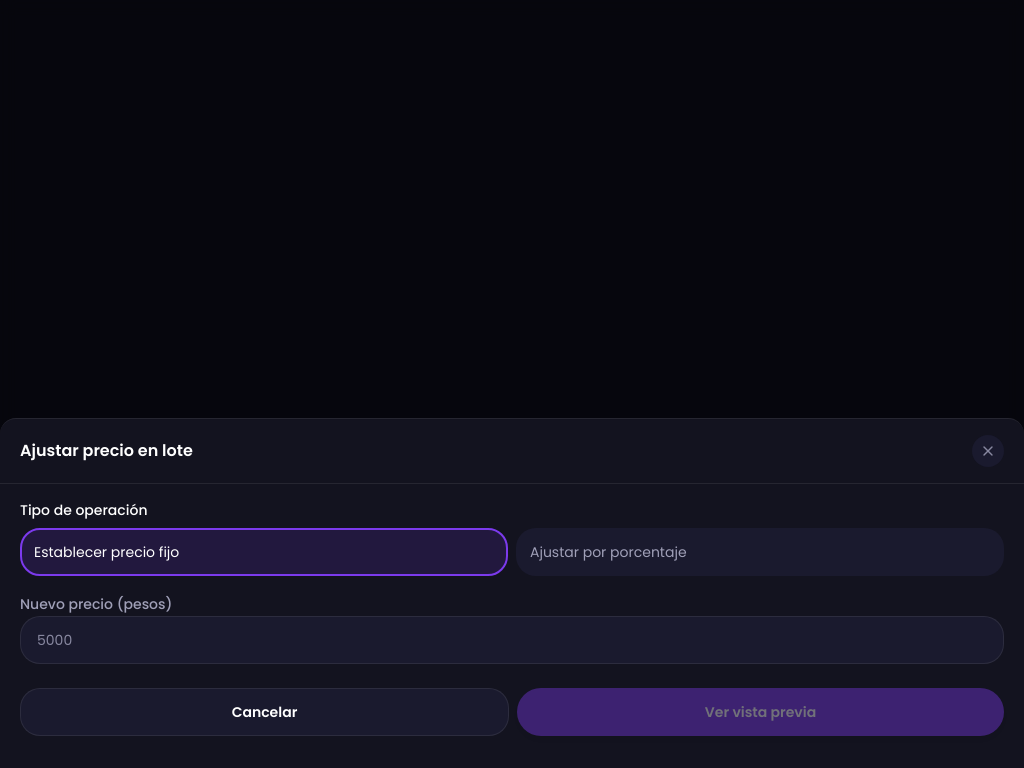
Test: BulkPriceDialog › con resultado válido el botón Confirmar está habilitado
In the number field: (512, 640) [20, 616, 1004, 664], type "6000"
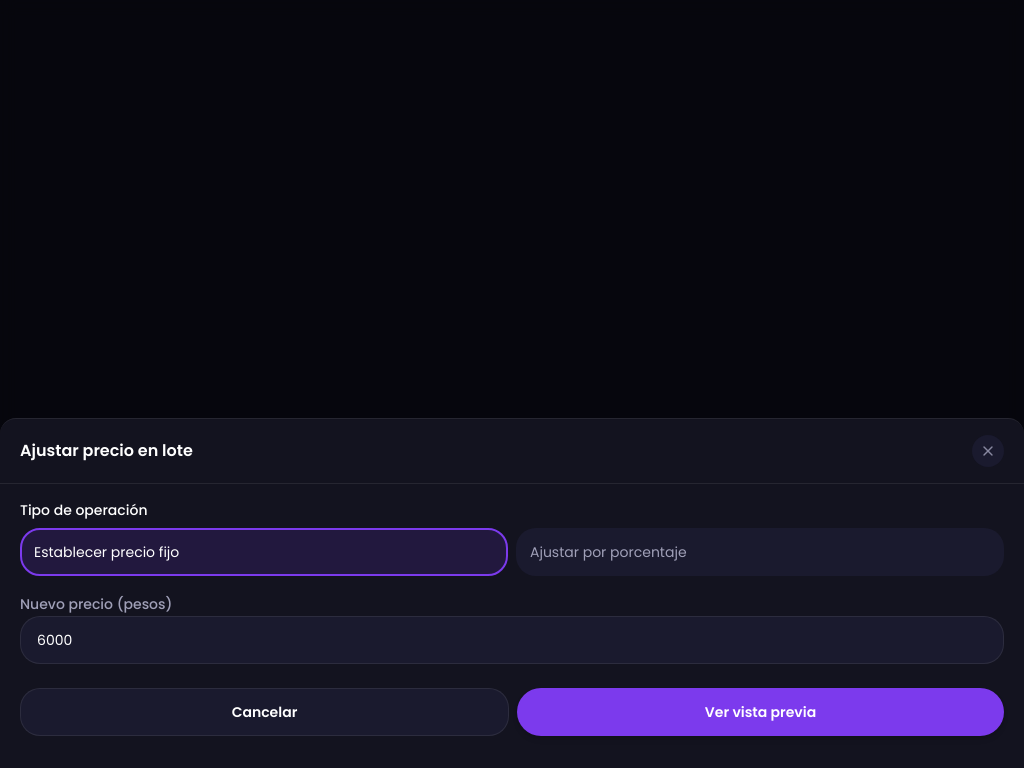
Click the button "Ver vista previa": (760, 712) [517, 688, 1004, 736]
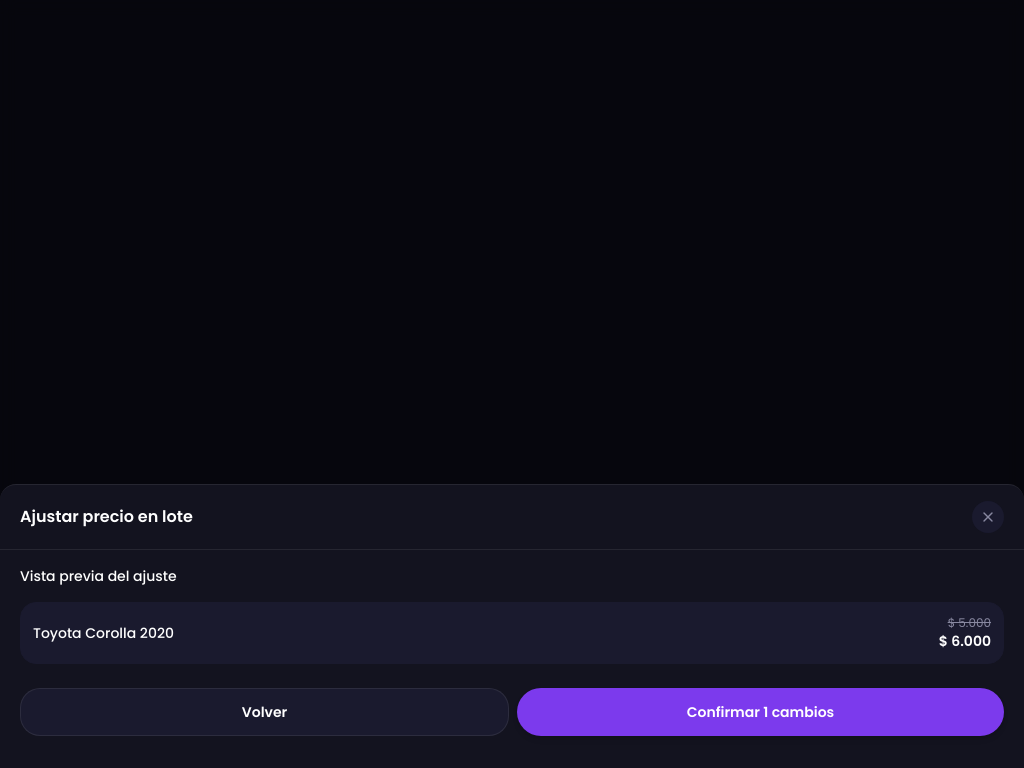
expect the button "Confirmar 1 cambios" is enabled: met, box [517, 688, 1004, 736]
expect the text "Vista previa del ajuste" is shown: met, box [20, 566, 177, 586]
